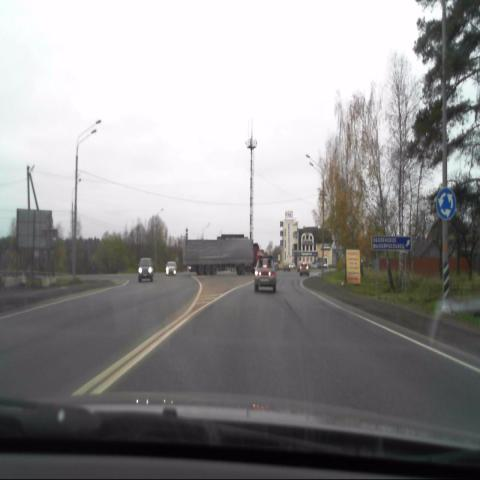4_3: (435, 190, 457, 224)
